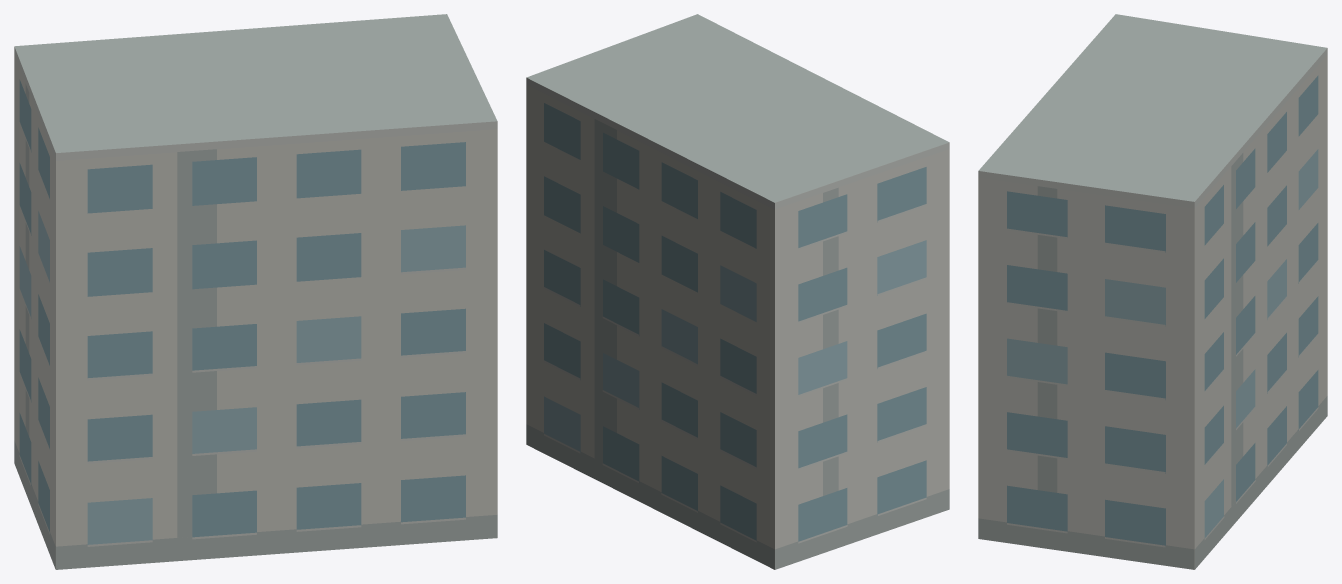
Rendered from survey-upis-32888338.glb.
The picture shows the model from 3 angles, left to right: view 1: azimuth 30°, elevation 25°; view 2: azimuth 150°, elevation 25°; view 3: azimuth 270°, elevation 25°; orthographic projection. The views are drawn at different scales.
Visible parts, largest first — view 1: survey-upis-32888338.tmp; view 2: survey-upis-32888338.tmp; view 3: survey-upis-32888338.tmp.
Part boxes in pixels (box(x1,y1,x2,y2)): survey-upis-32888338.tmp: box(14, 14, 497, 569); survey-upis-32888338.tmp: box(526, 14, 949, 569); survey-upis-32888338.tmp: box(978, 14, 1327, 569).
Bounding box in the file's own units: 14.57 × 13.3 × 11.45.
